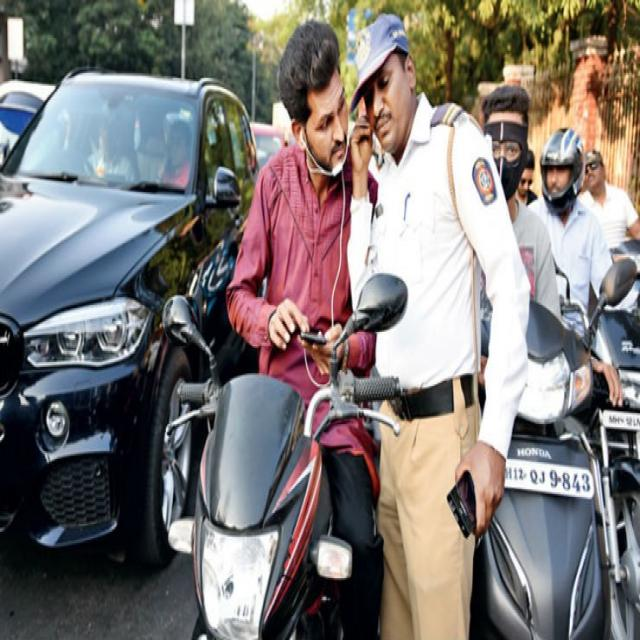Not Wearing Helmet: (254, 25, 363, 244)
